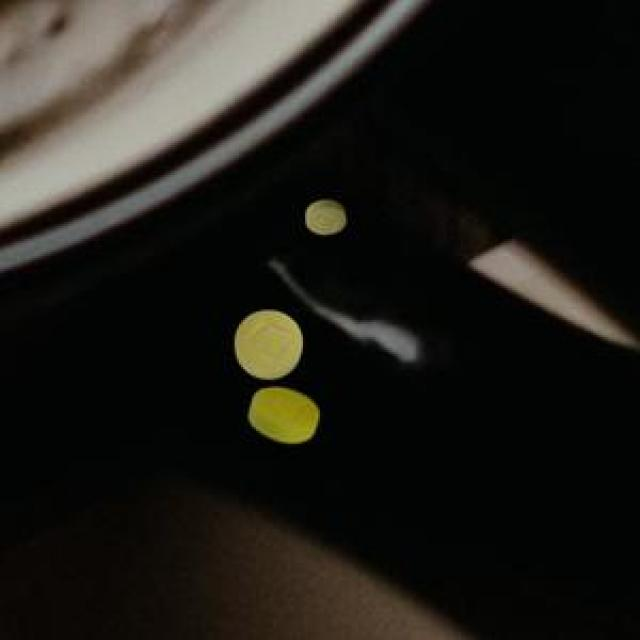Decolgen: (222, 304, 312, 381), (228, 381, 328, 449), (294, 196, 355, 243)
